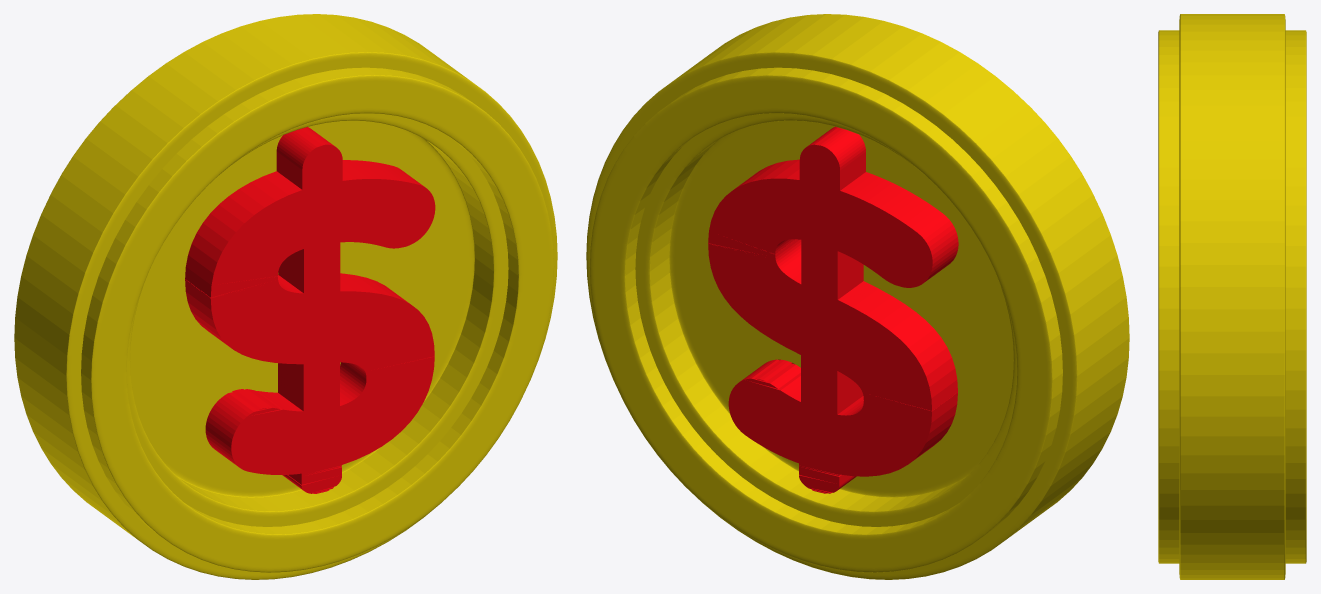
File: coin2.fbx
3 views of the same model, side by side, from view 1: azimuth 30°, elevation 25°; view 2: azimuth 150°, elevation 25°; view 3: azimuth 270°, elevation 25° (orthographic).
Visible parts, largest first — view 1: Cylinder, Curve.001; view 2: Cylinder, Curve; view 3: Cylinder.
Boxes of the visible parts, box(x1,y1,x2,y2) form: Cylinder: box(14, 14, 557, 579); Curve.001: box(185, 127, 435, 493); Cylinder: box(586, 14, 1129, 579); Curve: box(708, 126, 958, 493); Cylinder: box(1158, 14, 1306, 579).
Size of the model in its own units: 200 by 200 by 52.47.
